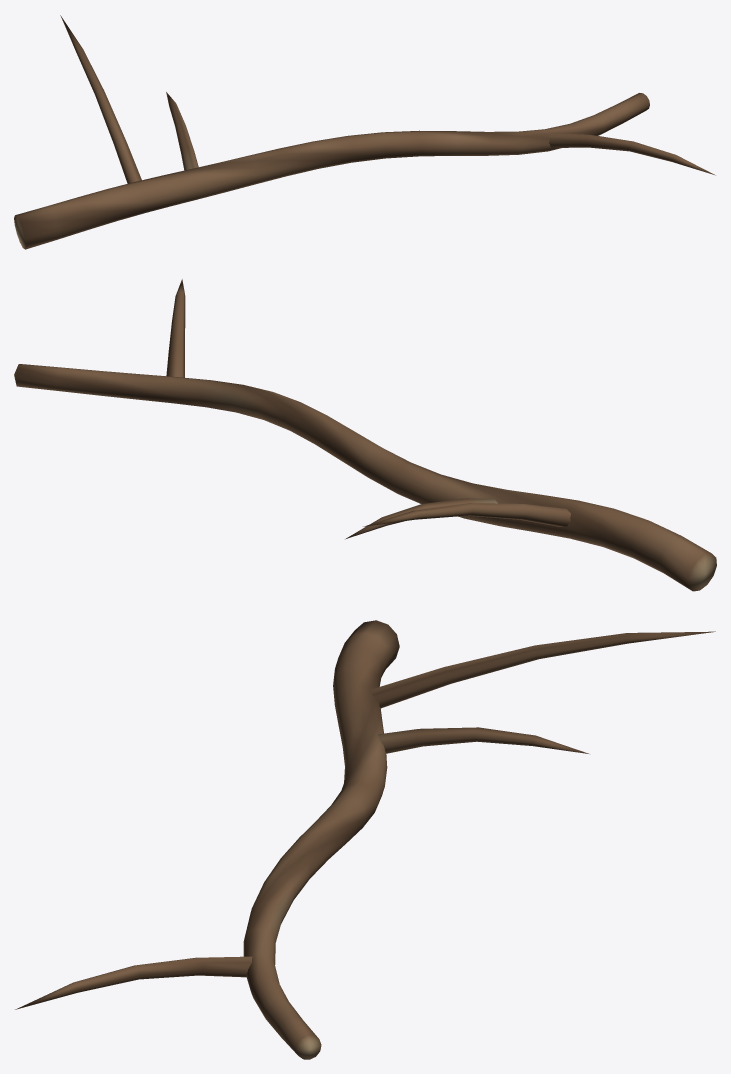
File: Twig_B.fbx
3 views of the same model, one above another, from view 1: azimuth 30°, elevation 25°; view 2: azimuth 150°, elevation 25°; view 3: azimuth 270°, elevation 25° (orthographic). The views are drawn at different scales.
Parts seen in each view (by area): view 1: Twig_B; view 2: Twig_B; view 3: Twig_B.
Boxes of the visible parts, left/top/right/bottom form: Twig_B: left=14, top=15, right=715, bottom=249; Twig_B: left=14, top=279, right=716, bottom=591; Twig_B: left=15, top=620, right=715, bottom=1059.
Size of the model in its own units: 10.12 by 1.67 by 7.31.
